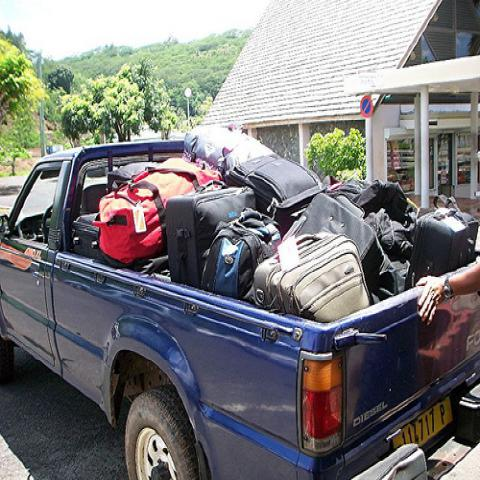truck: (0, 119, 478, 473)
